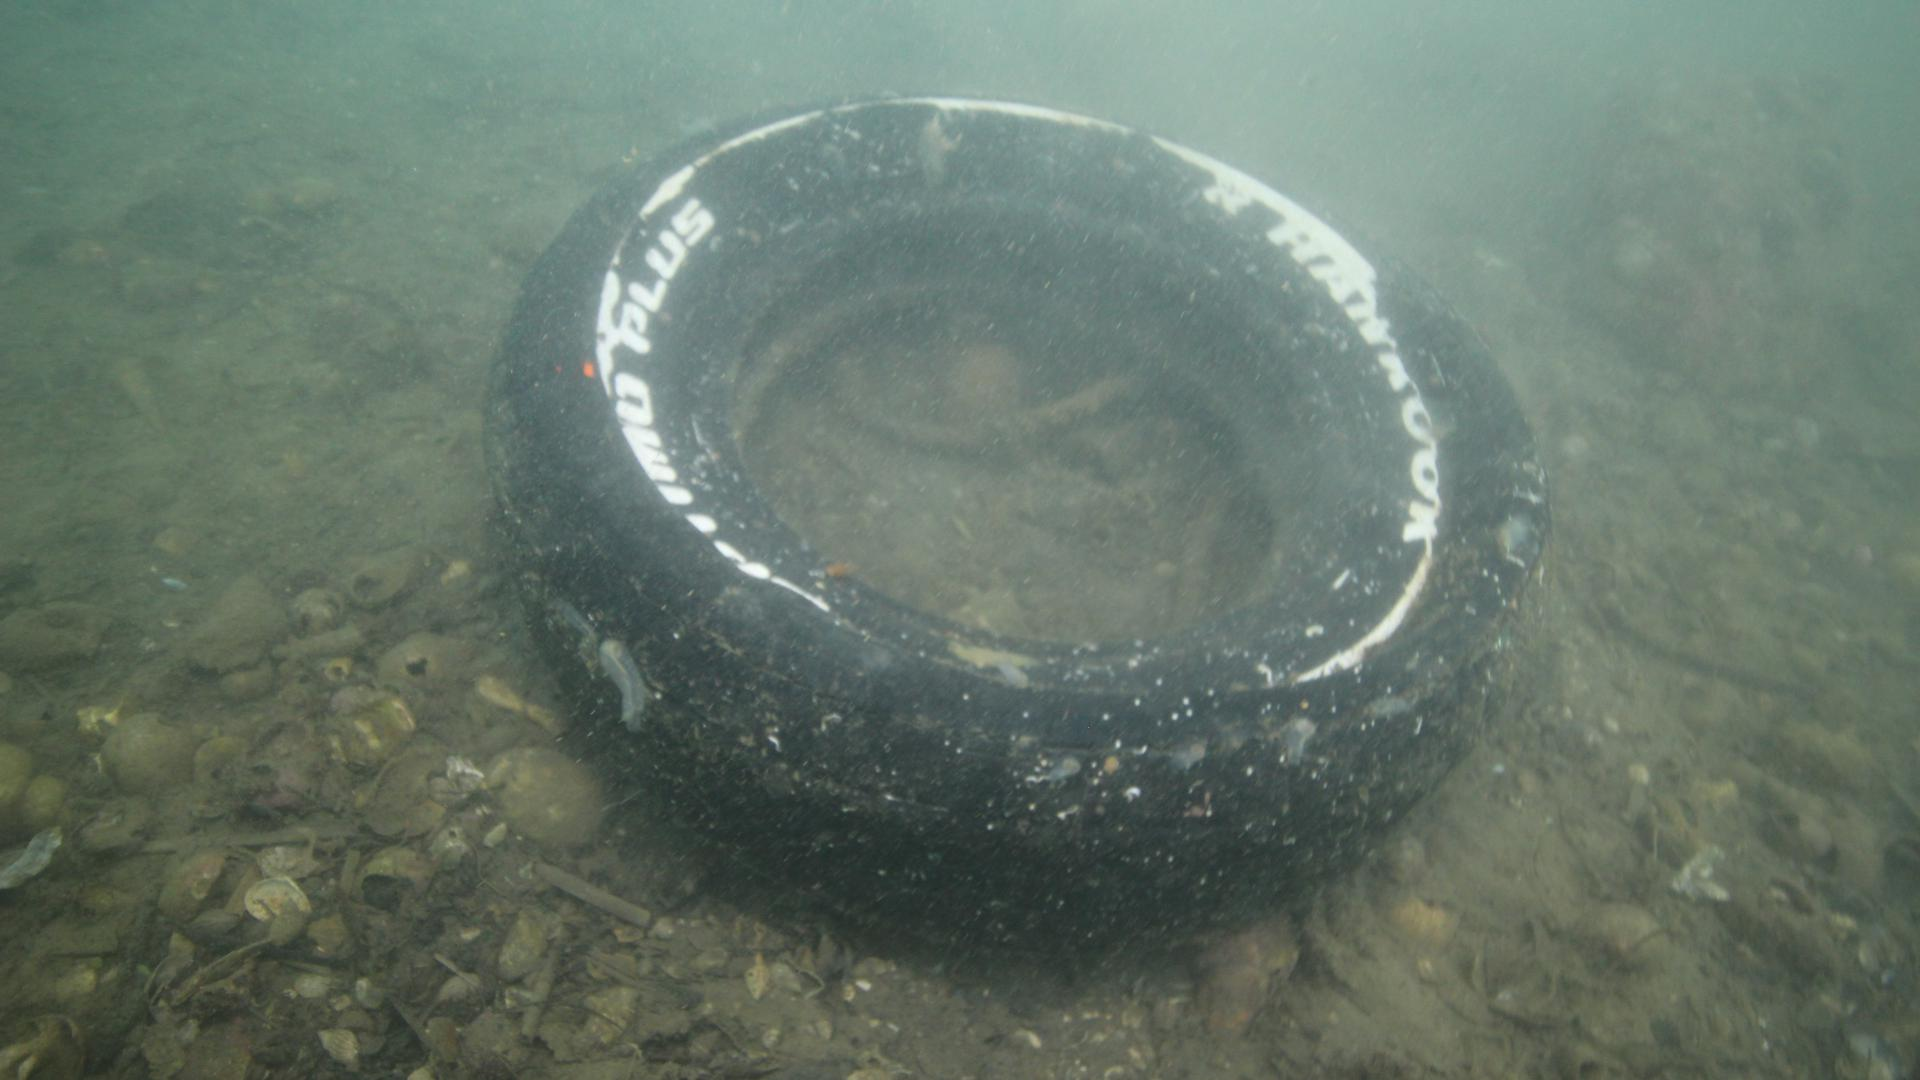tire: (476, 91, 1549, 959)
